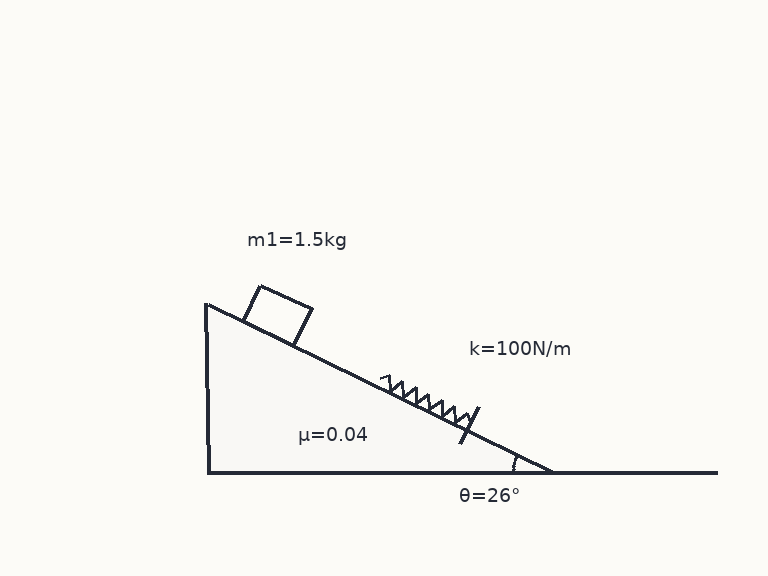block: (241, 282, 313, 347)
ramp: (205, 301, 555, 474)
spring: (378, 373, 472, 424)
